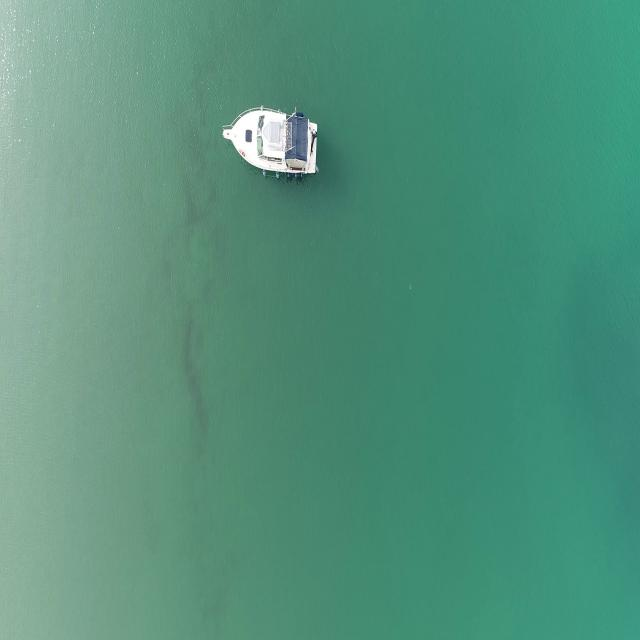boat: (222, 104, 320, 182)
